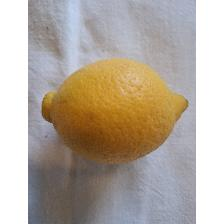Zitrone: (39, 51, 193, 168)
